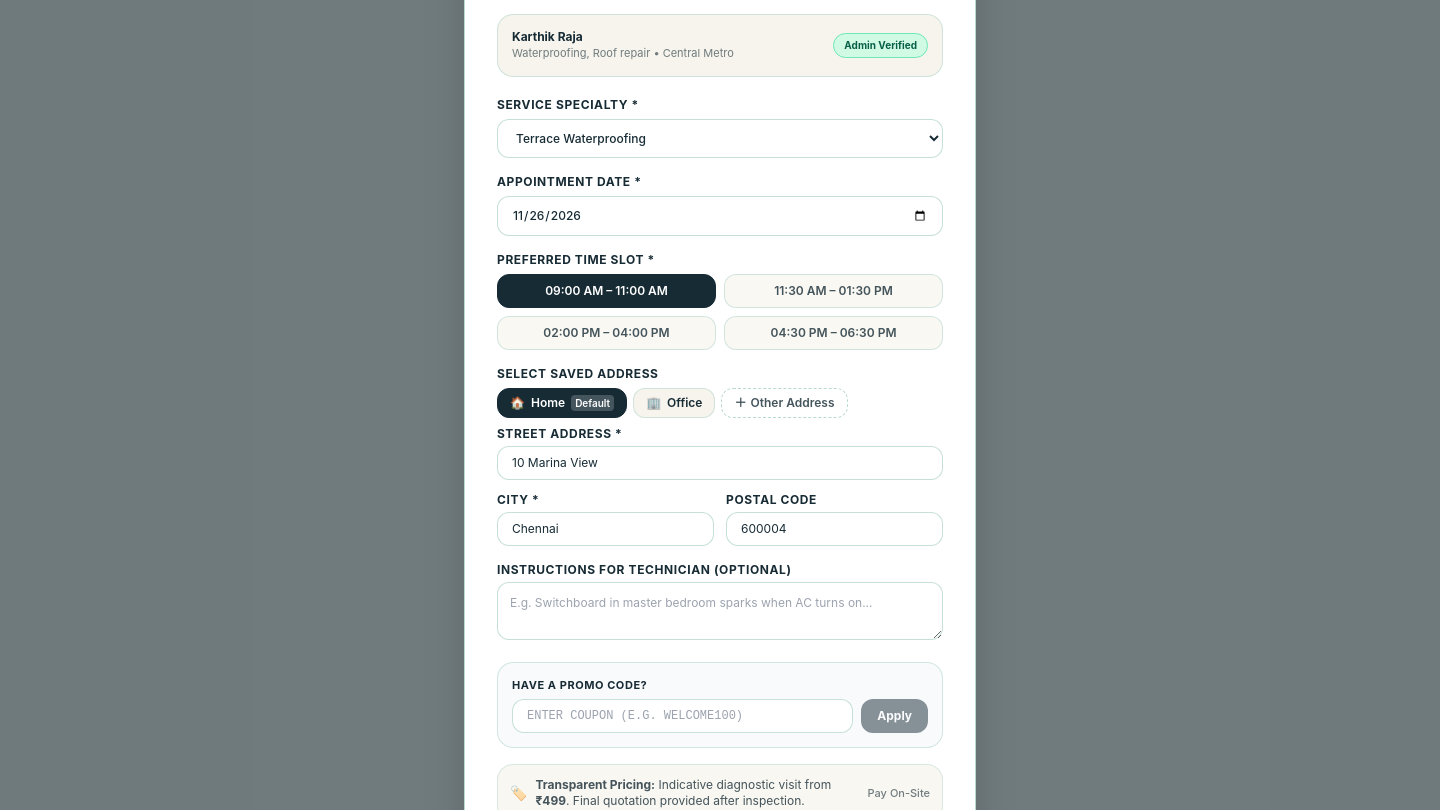
Test case: BookingModal Component › renders multi-address selection pills when saved addresses exist and switches fields on selection
Expected: the button "🏠 Home Default" is shown, [497,388,627,418]
Expected: the button "＋ Other Address" is shown, [722,388,848,418]
# Click 'Office' pill
Click the button "🏢 Office".
click(674, 402)  # box [633,388,715,418]
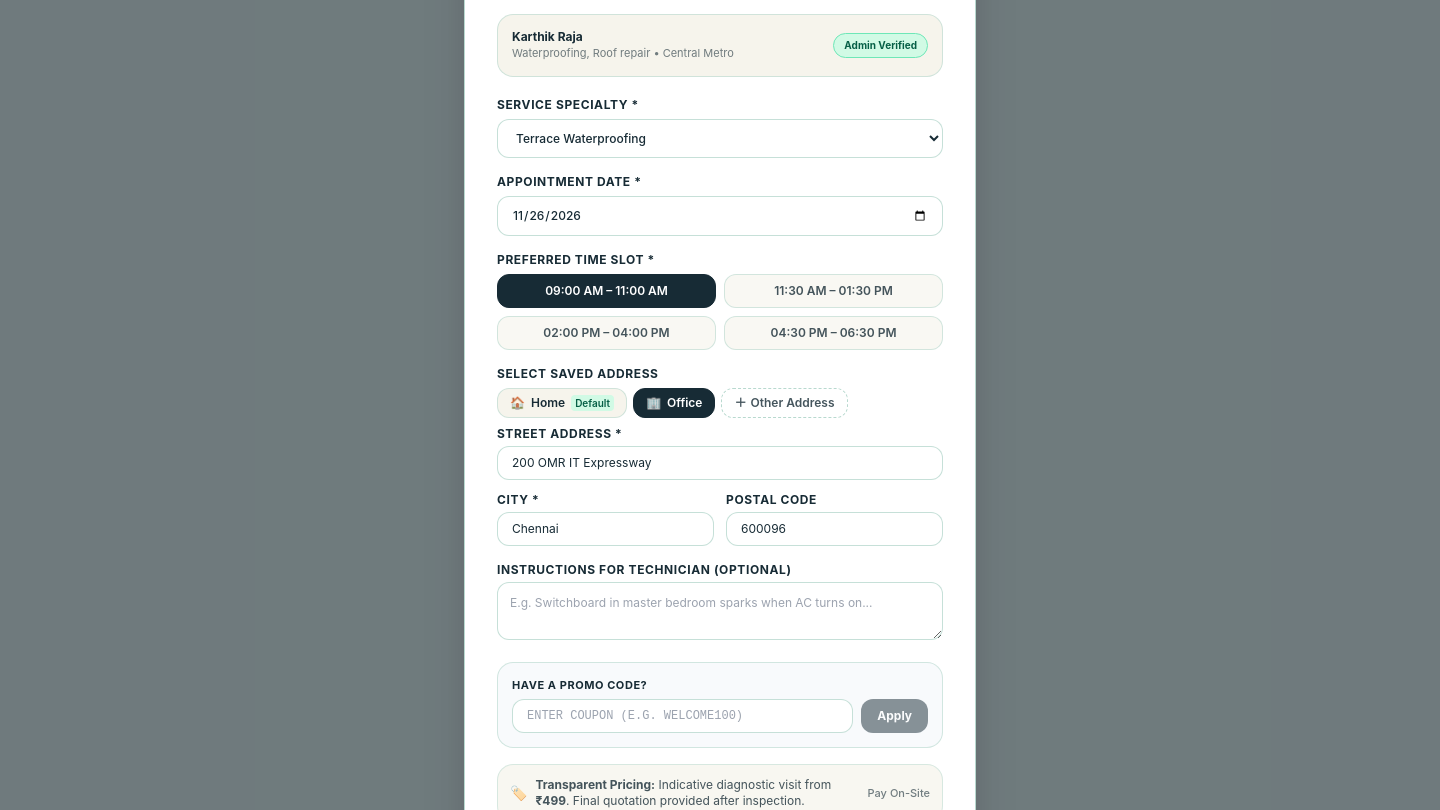
Expected: the field labelled "Street Address *" holds "200 OMR IT Expressway", [497,446,943,480]
Expected: the field labelled "Postal Code" holds "600096", [726,512,943,546]
# Click 'Other Address' pill
Click the button "＋ Other Address".
click(784, 402)  # box [722,388,848,418]
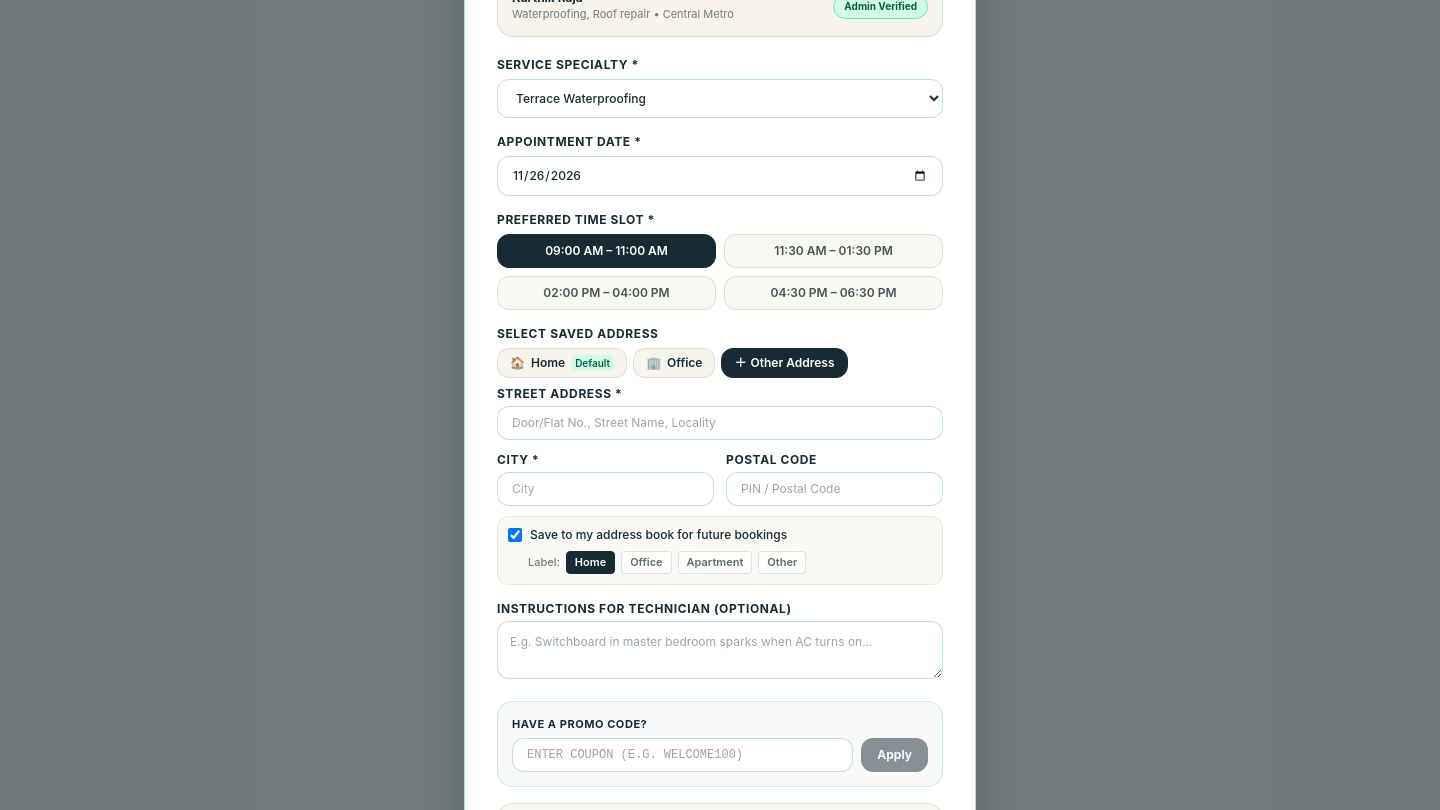
Expected: the field labelled "Street Address *" is empty, [497,406,943,440]
Expected: the checkbox labelled "Save to my address book for future bookings" is shown, [508,528,522,542]
